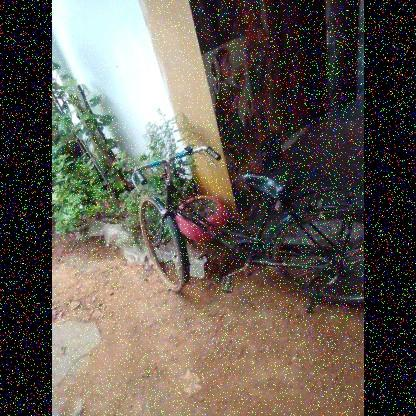Bicycle: (120, 136, 366, 321)
